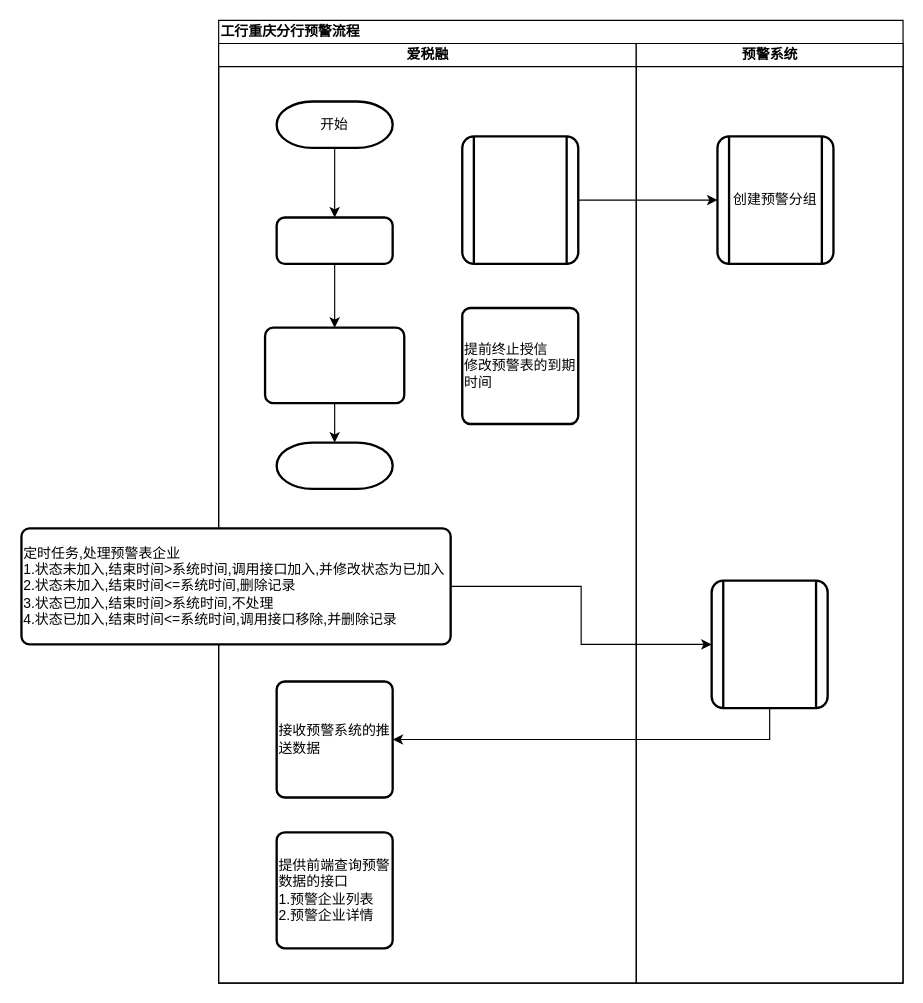
This 923x1003 diagram has some shape labels left out. Here are the shapes that lost their labels. From the top down, the centre of each, then its label:
At point 520,199: "预先创建好预警分组,并记录分组id".
At point 334,240: "授信操作".
At point 334,365: "添加记录到预警表 标记开始时间,结束时间,和未加入状态".
At point 334,465: "结束".
At point 769,644: "预警加入,移除,推送".
